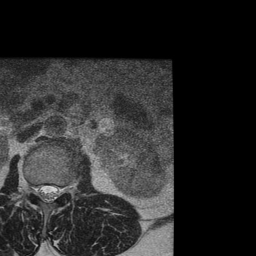CCS_normal: (43, 176, 50, 206)
LFS_normal: (58, 179, 66, 198)
LLS_normal: (50, 179, 58, 203)
RFS_normal: (29, 177, 36, 199)
RLS_normal: (36, 179, 43, 202)
